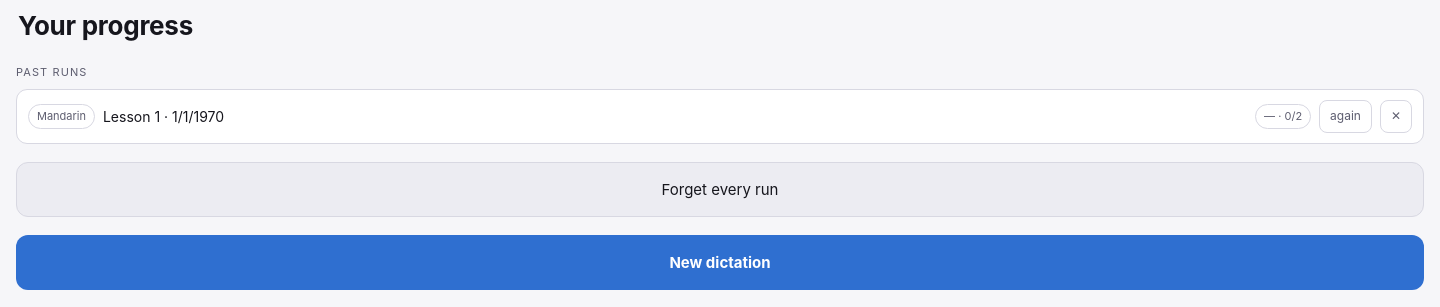
History › asks before forgetting a single Run
The width and height of the screenshot is (1440, 307).
Click the button named "Forget the run of Lesson 1".
click(1396, 117)  # box [1380,100,1412,133]
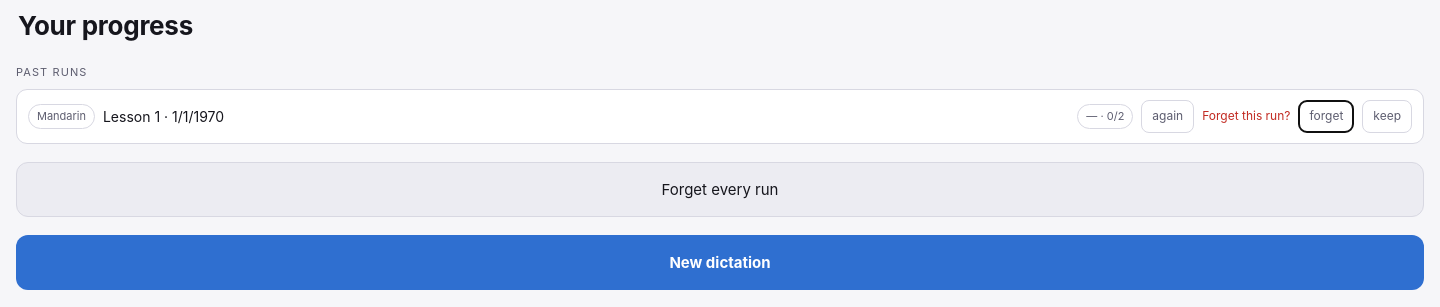
Result: the text "Forget this run?" is shown at [1202,107,1290,126]
Click the button "keep".
click(1387, 117)  # box [1362,100,1412,133]
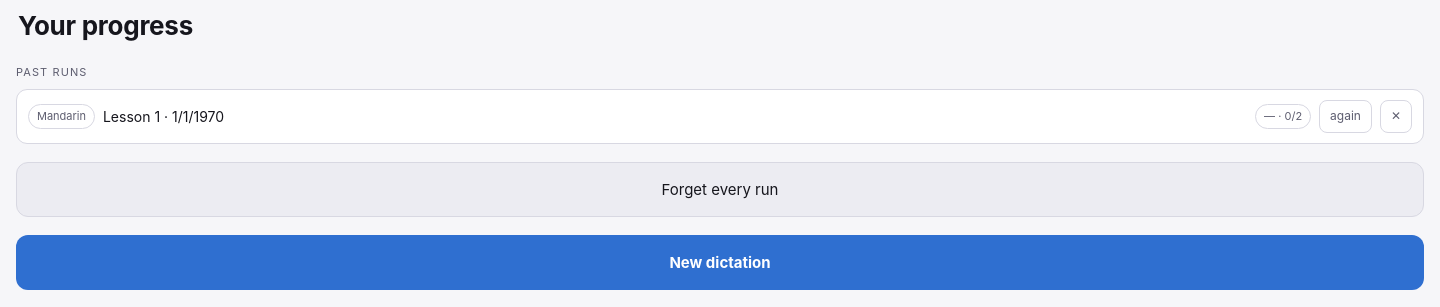
Result: the text "Forget this run" is gone
